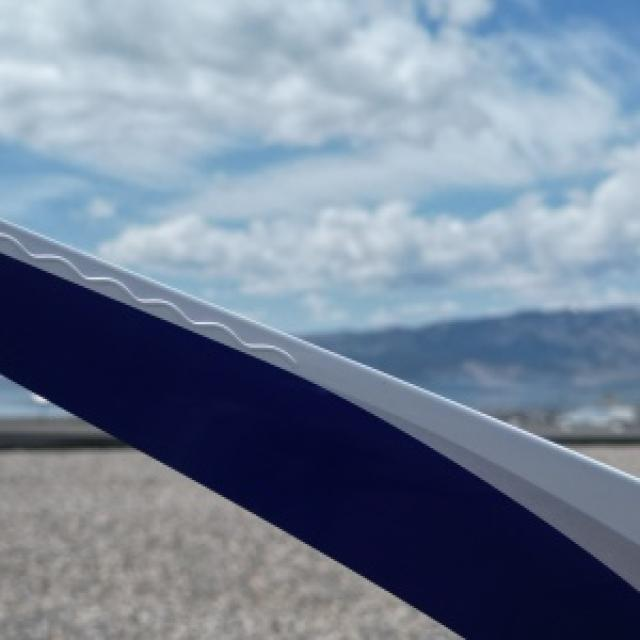healthy: (0, 222, 638, 638), (0, 452, 452, 638)
